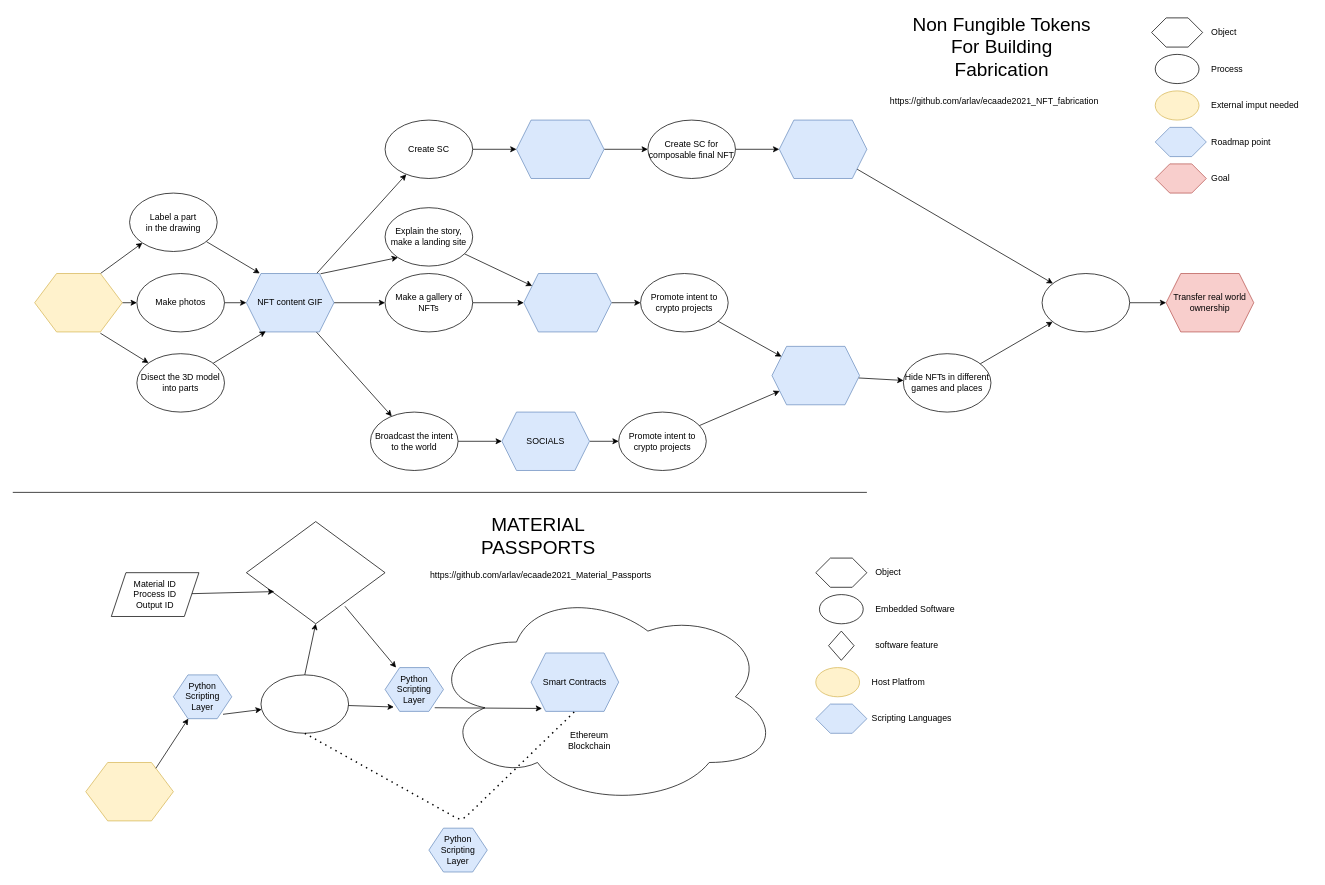
Some shapes in this 1325 by 885 pixel diagram are drawn without their labels. Each missing label, with the centre of its shape:
Blender Model: [129,791]
Check if some address minted the FNFT: [1085,302]
Dictionaries on Model Data: [315,572]
Final NFT FNFT: [823,148]
NFT: [560,148]
PARTNERS BAYC Axie Infinity Decentraland...: [815,375]
The Prvok building: [78,302]
TOPOLOGIC: [304,703]
WEB: [567,302]
